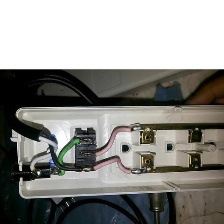three_eye_plug: (6, 99, 223, 204)
